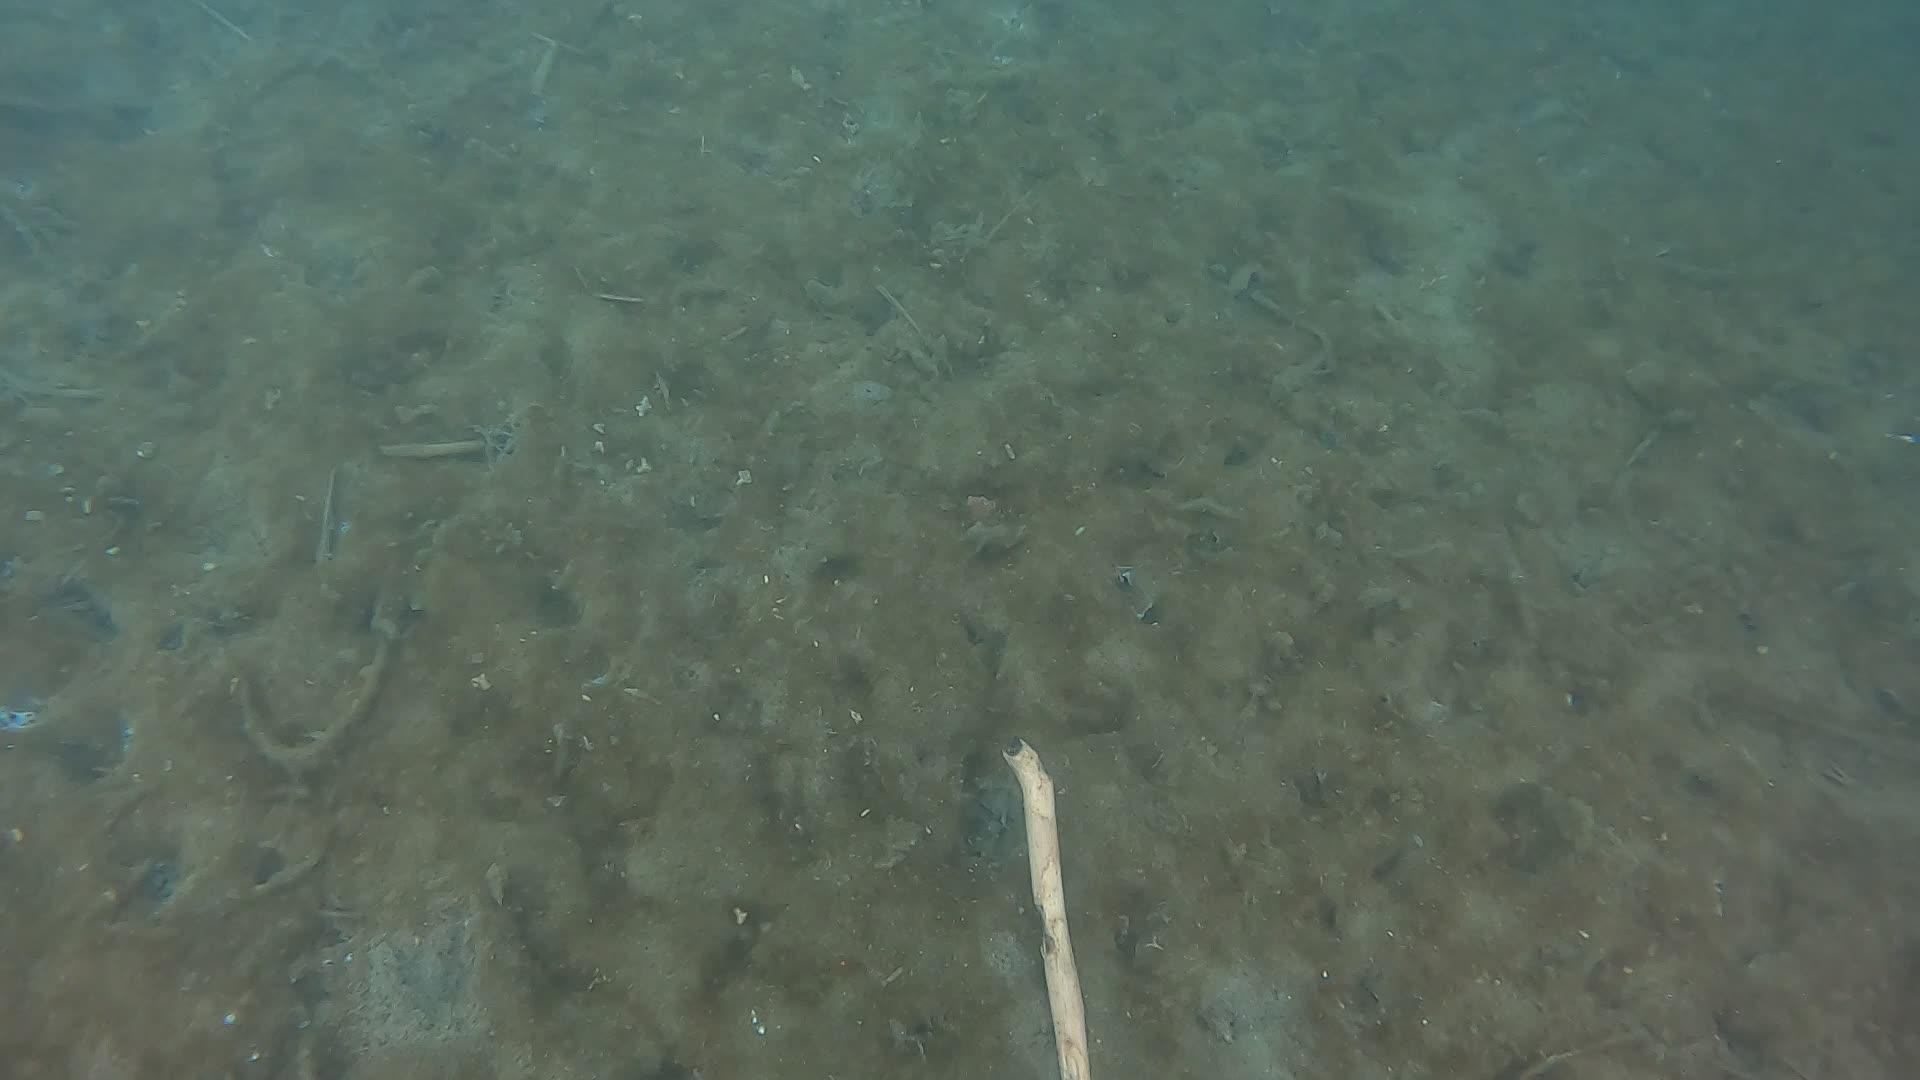wood: (1000, 735, 1095, 1080)
